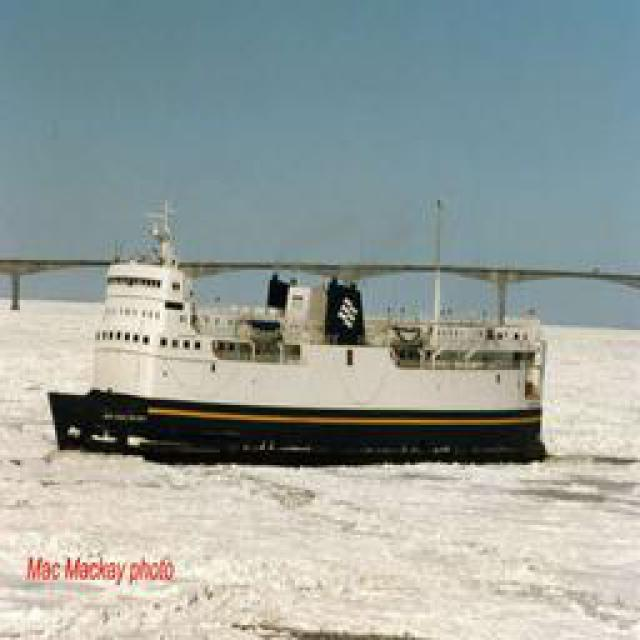Ship: (35, 225, 555, 463)
